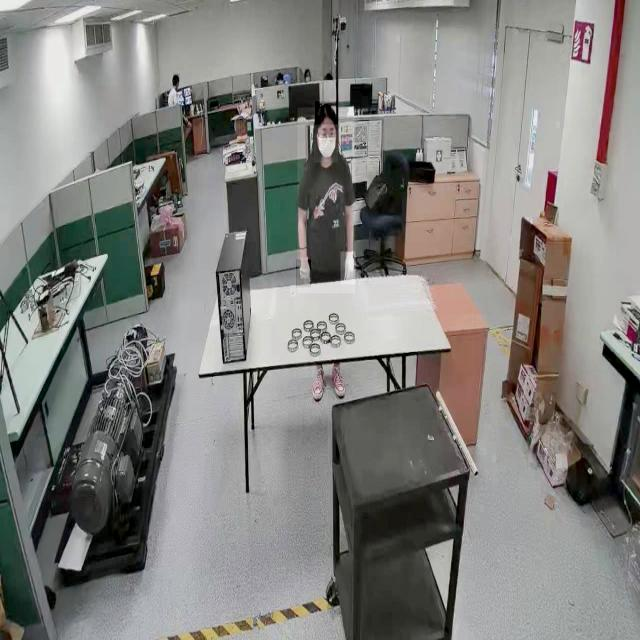face_mask: (314, 134, 338, 163)
hand_glove: (340, 252, 356, 286), (295, 260, 311, 288)
head_nohelmet: (314, 102, 338, 125), (172, 74, 180, 80)
person: (297, 108, 355, 294)
shoes: (310, 362, 326, 408), (330, 363, 348, 402)
